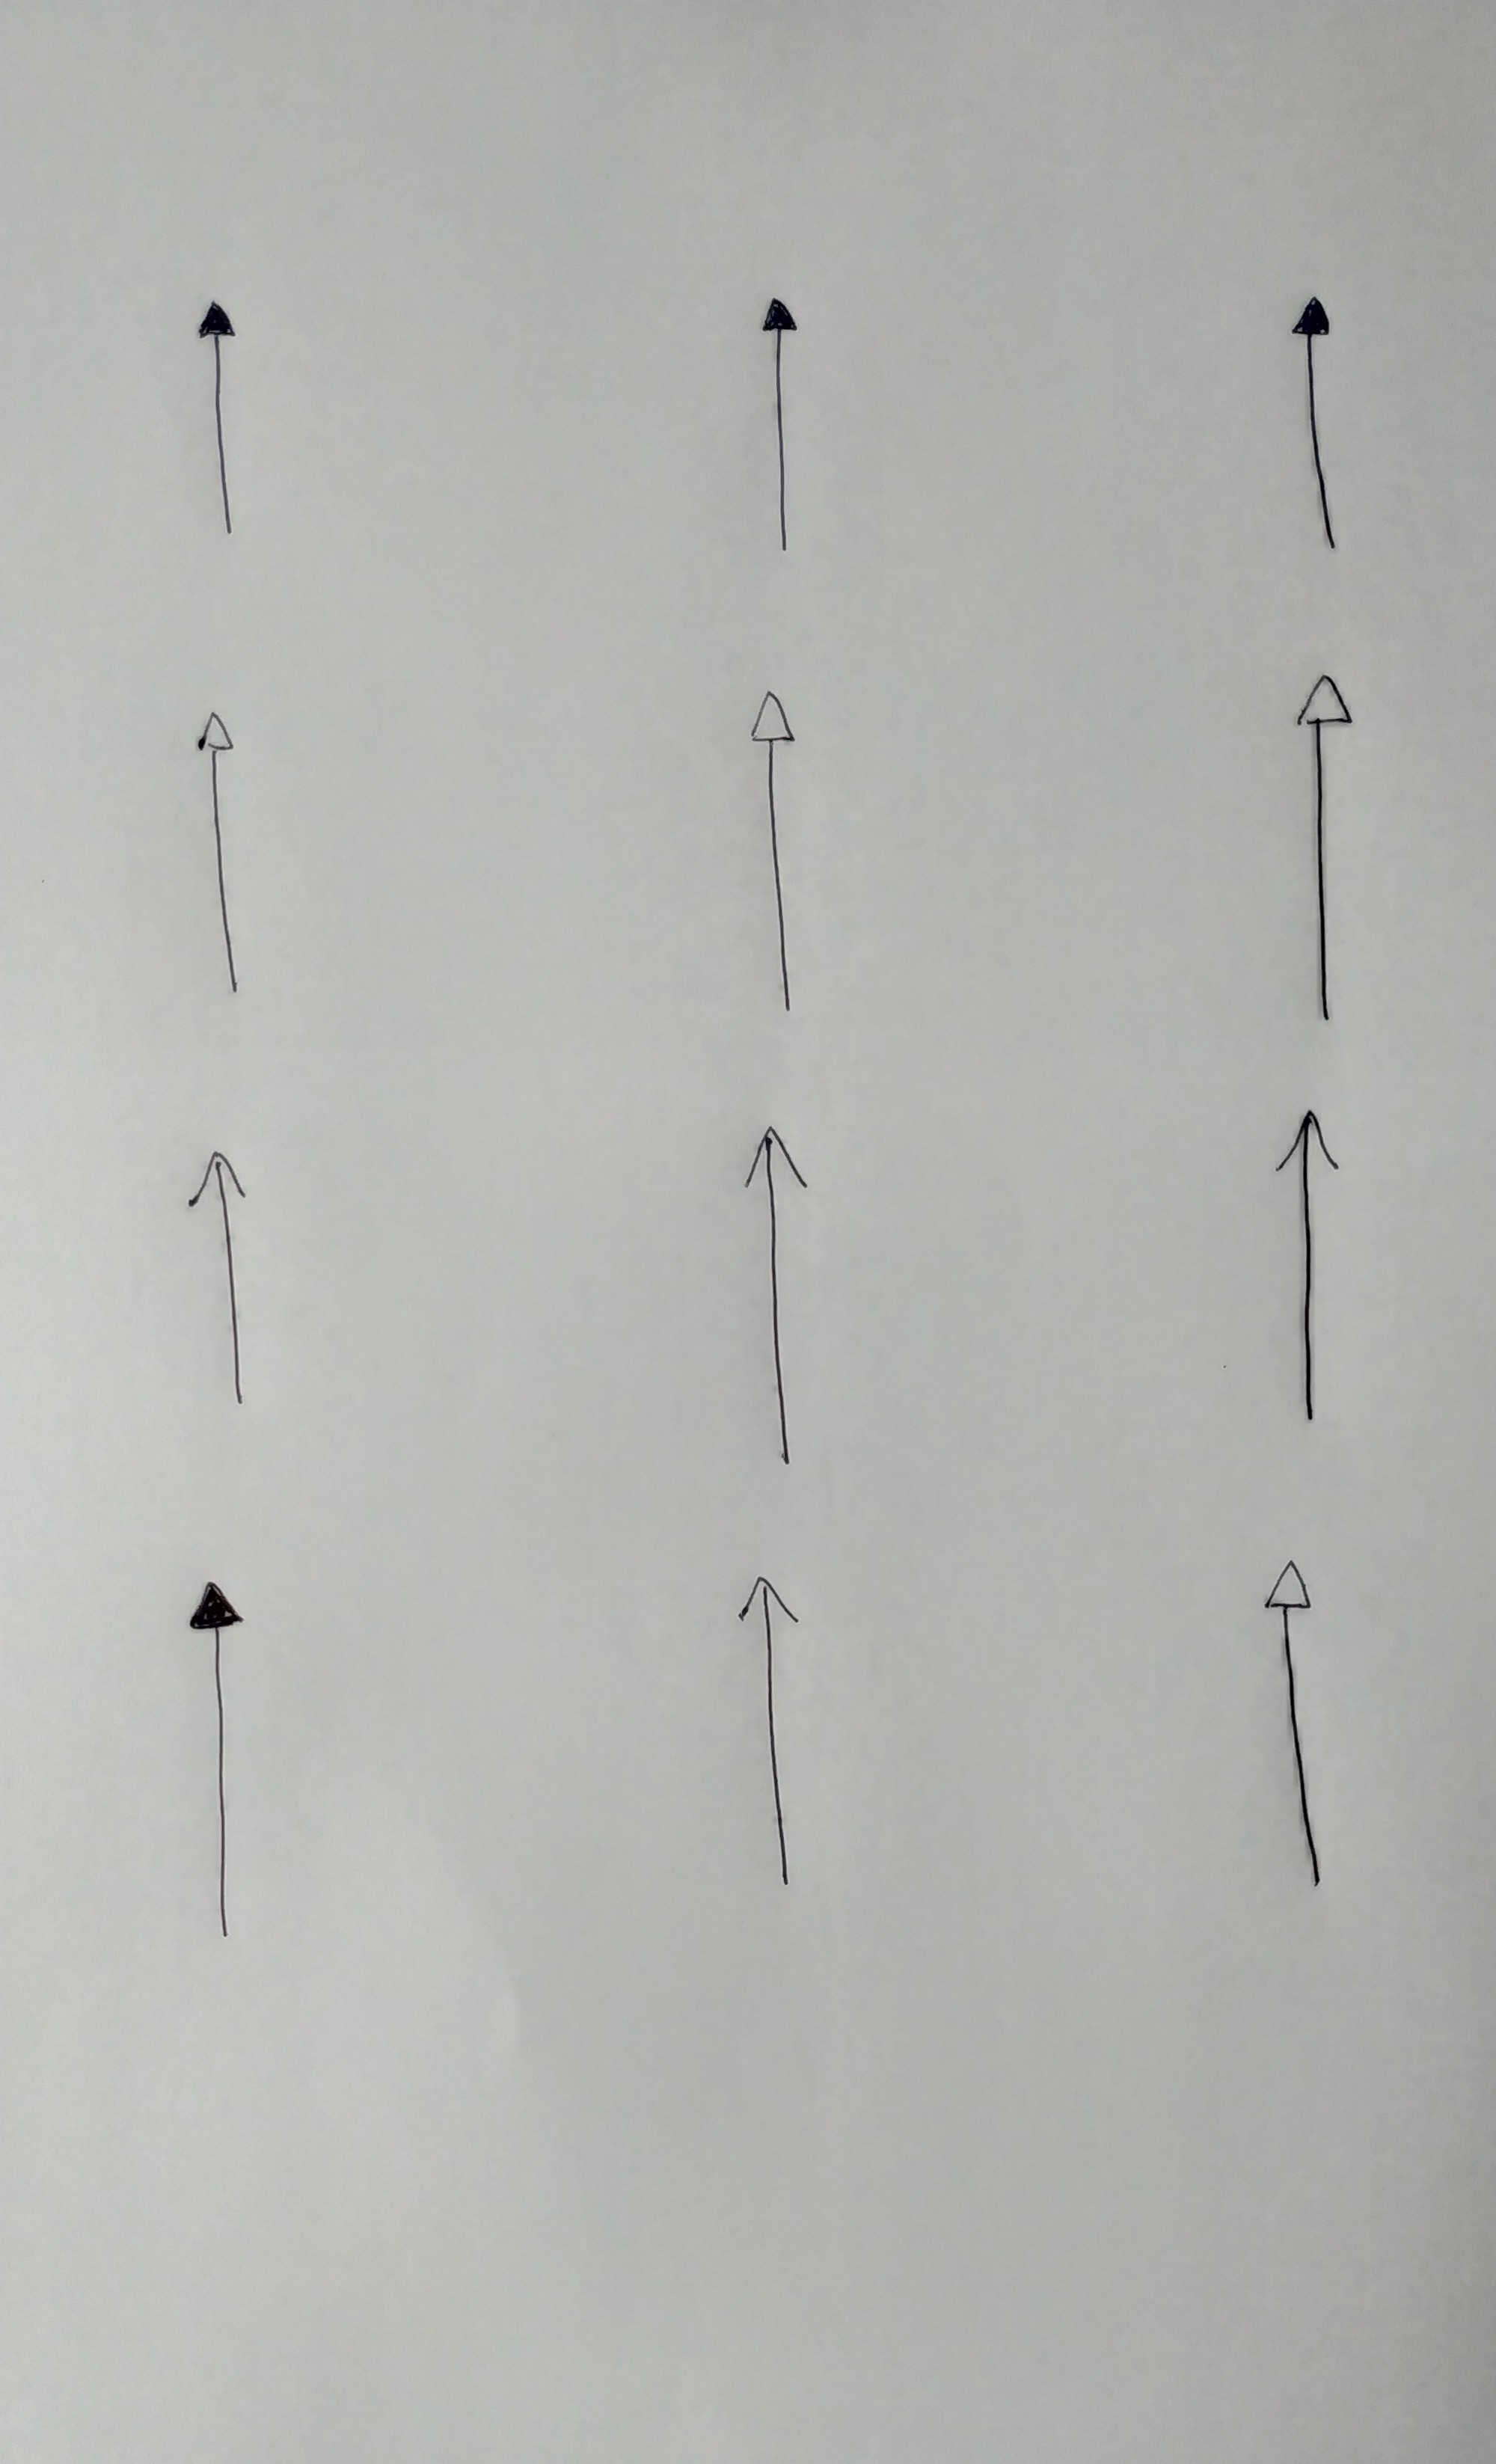arrow_line_up: (1285, 669, 1376, 1033), (734, 1125, 825, 1482), (1255, 1551, 1338, 1901), (732, 1566, 818, 1901), (1267, 1105, 1350, 1431), (172, 1148, 269, 1422), (741, 681, 813, 1028), (185, 1573, 250, 1950), (1280, 282, 1360, 570), (188, 704, 253, 1010), (190, 292, 248, 554), (757, 297, 808, 567)
